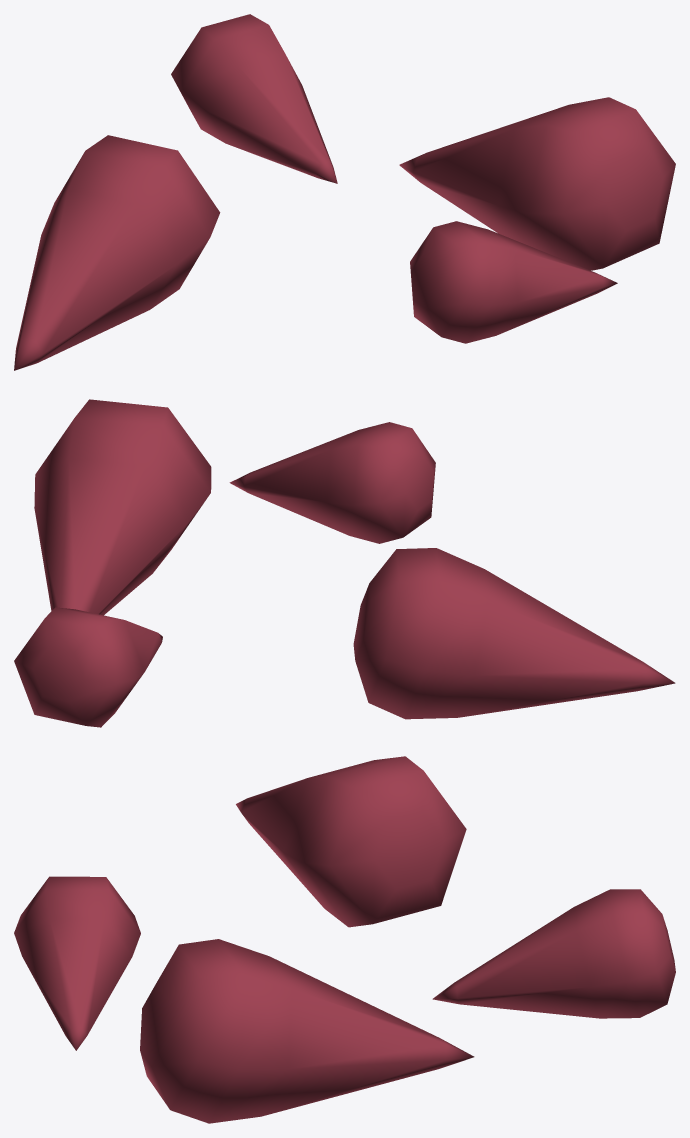
Rendered from SM_Blooddrop_Seed.fbx.
The picture shows the model from 3 angles, top to bottom: view 1: azimuth 30°, elevation 25°; view 2: azimuth 150°, elevation 25°; view 3: azimuth 270°, elevation 25°; orthographic projection. The views are drawn at different scales.
Parts seen in each view (by area): view 1: SM_Blooddrop_Seed; view 2: SM_Blooddrop_Seed; view 3: SM_Blooddrop_Seed.
Boxes of the visible parts, x1,y1,x2,y2 form: SM_Blooddrop_Seed: (14, 14, 675, 370); SM_Blooddrop_Seed: (14, 399, 675, 727); SM_Blooddrop_Seed: (14, 756, 675, 1123).
Bounding box in the file's own units: 7.45 × 1.58 × 6.47.
